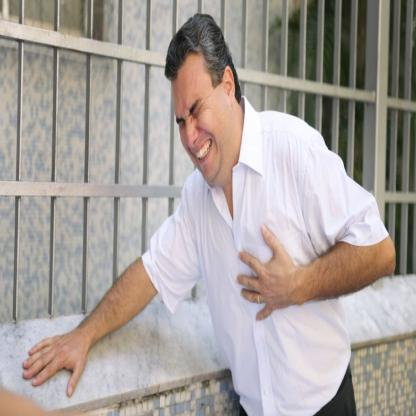pain: (169, 86, 211, 133)
